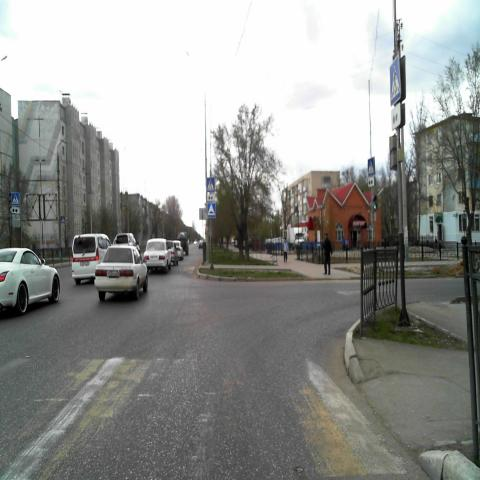8_15: (391, 102, 401, 131)
